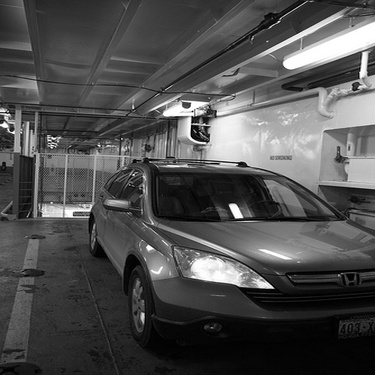car: (79, 150, 373, 352)
